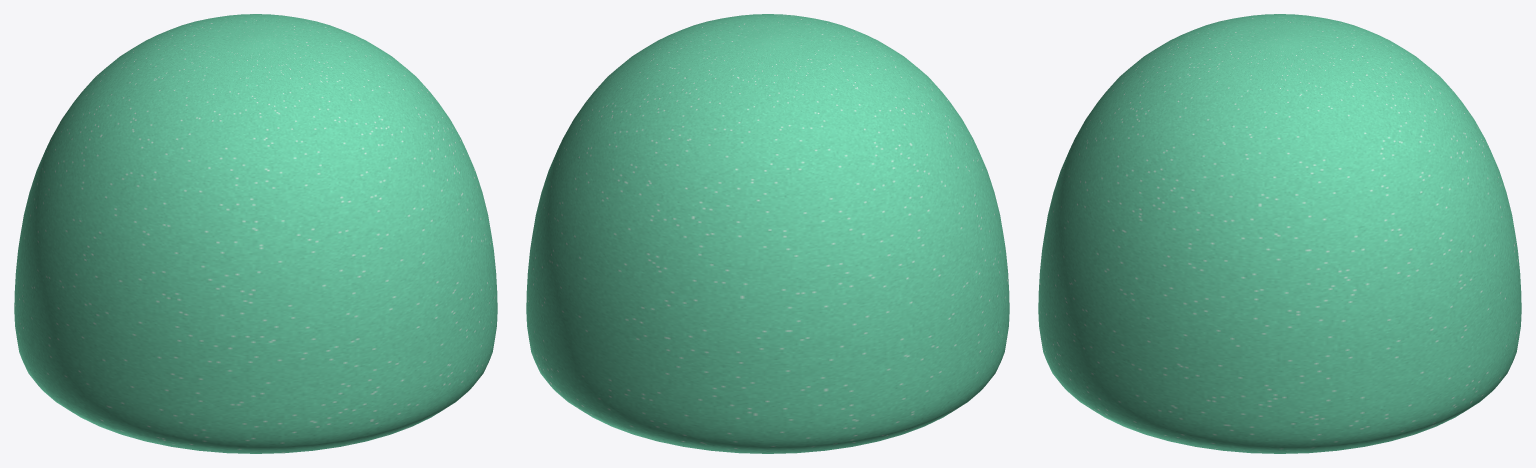
File: gumdrop_mint.glb
The picture shows the model from 3 angles, left to right: view 1: azimuth 30°, elevation 25°; view 2: azimuth 150°, elevation 25°; view 3: azimuth 270°, elevation 25°; orthographic projection.
Parts seen in each view (by area): view 1: gumdrop; view 2: gumdrop; view 3: gumdrop.
Part boxes in pixels (x1,y1,x2,y2): gumdrop: (14,14,497,453); gumdrop: (526,14,1009,453); gumdrop: (1038,14,1521,453).
Bounding box in the file's own units: 2 × 1.48 × 2.
1 material, 1 textured.
